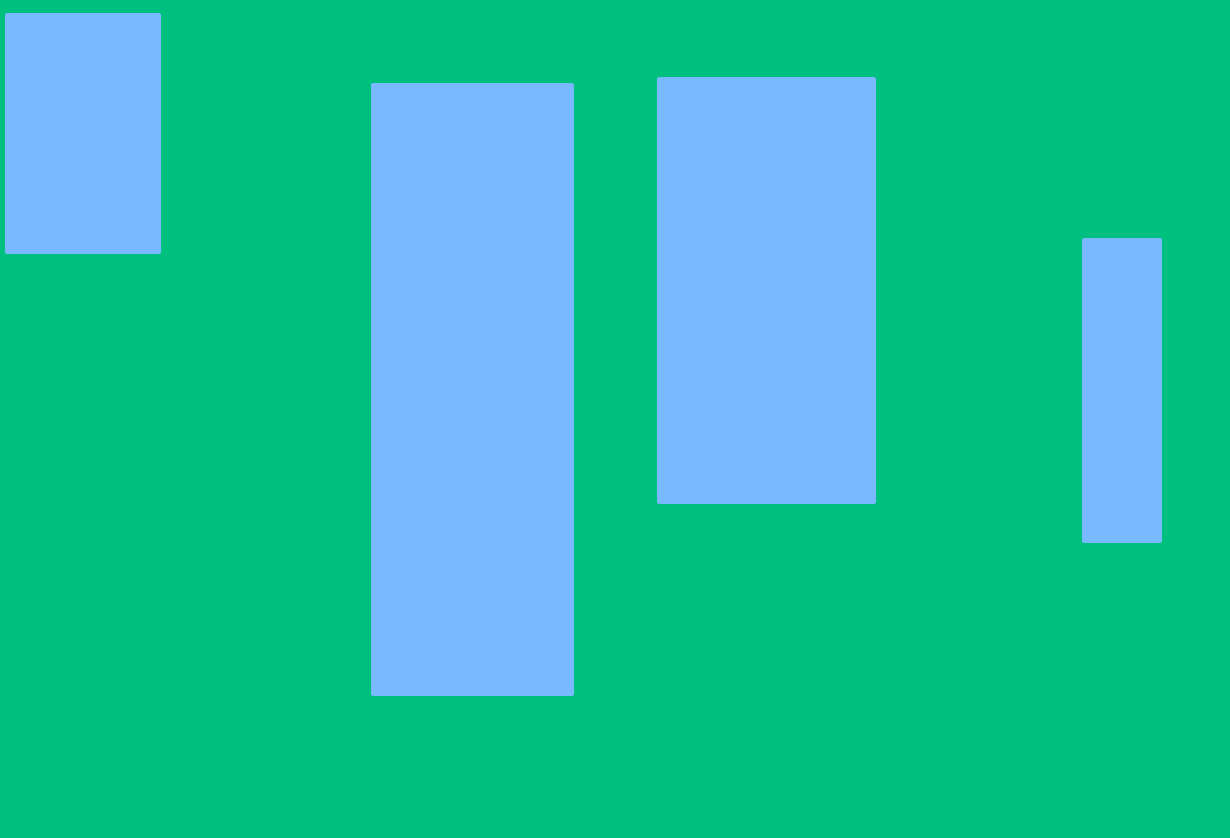Text_area: (372, 84, 572, 694), (658, 78, 874, 502), (6, 14, 159, 252), (1083, 239, 1160, 541)
